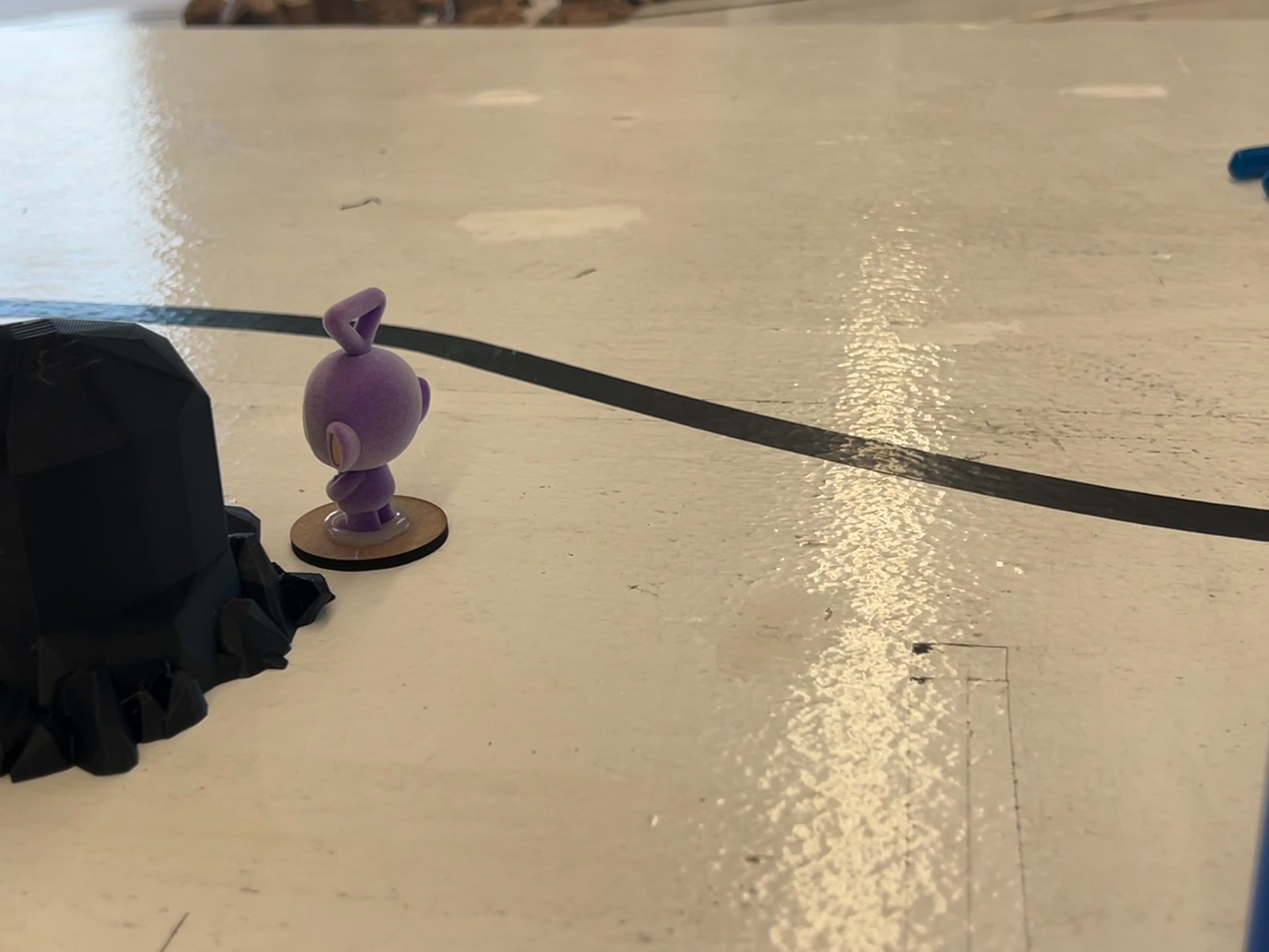teletubby: (302, 288, 431, 532)
